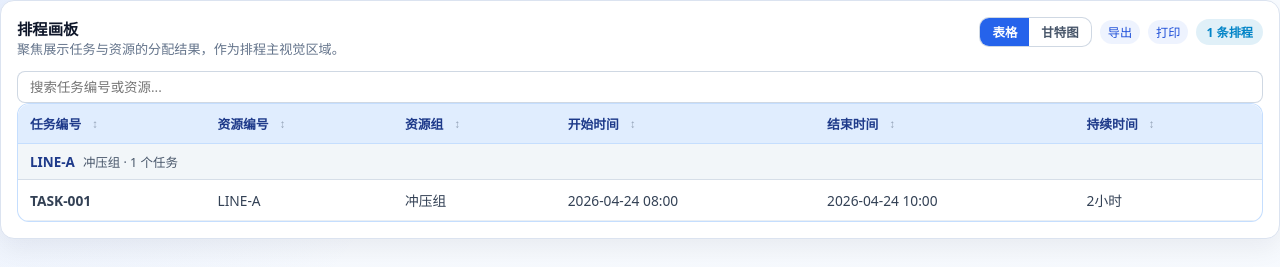
Scenario: ScheduleBoard › 点击表格按钮从甘特视图切回表格视图
The width and height of the screenshot is (1280, 267).
Click the button with test id "view-mode-gantt".
click(1060, 32)  # box [1029,18,1091,46]
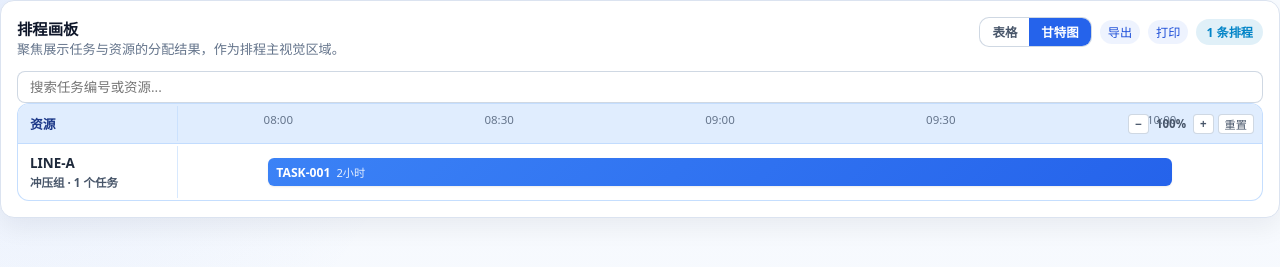
Check: the element named "甘特图" is shown, box [17,103,1263,201]
Click the button with test id "view-mode-table".
click(1005, 32)  # box [980,18,1029,46]
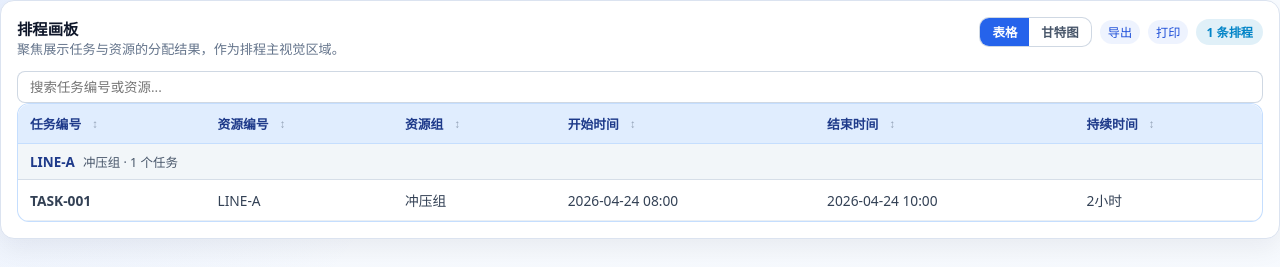
Check: the table is shown, box [18,104,1262,221]
